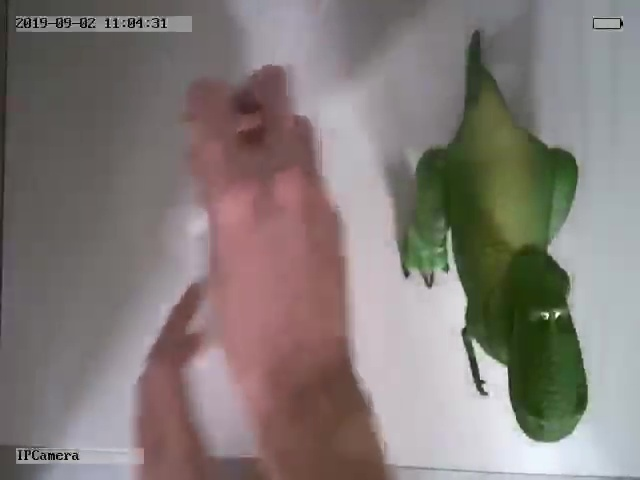rex: (400, 44, 587, 442)
